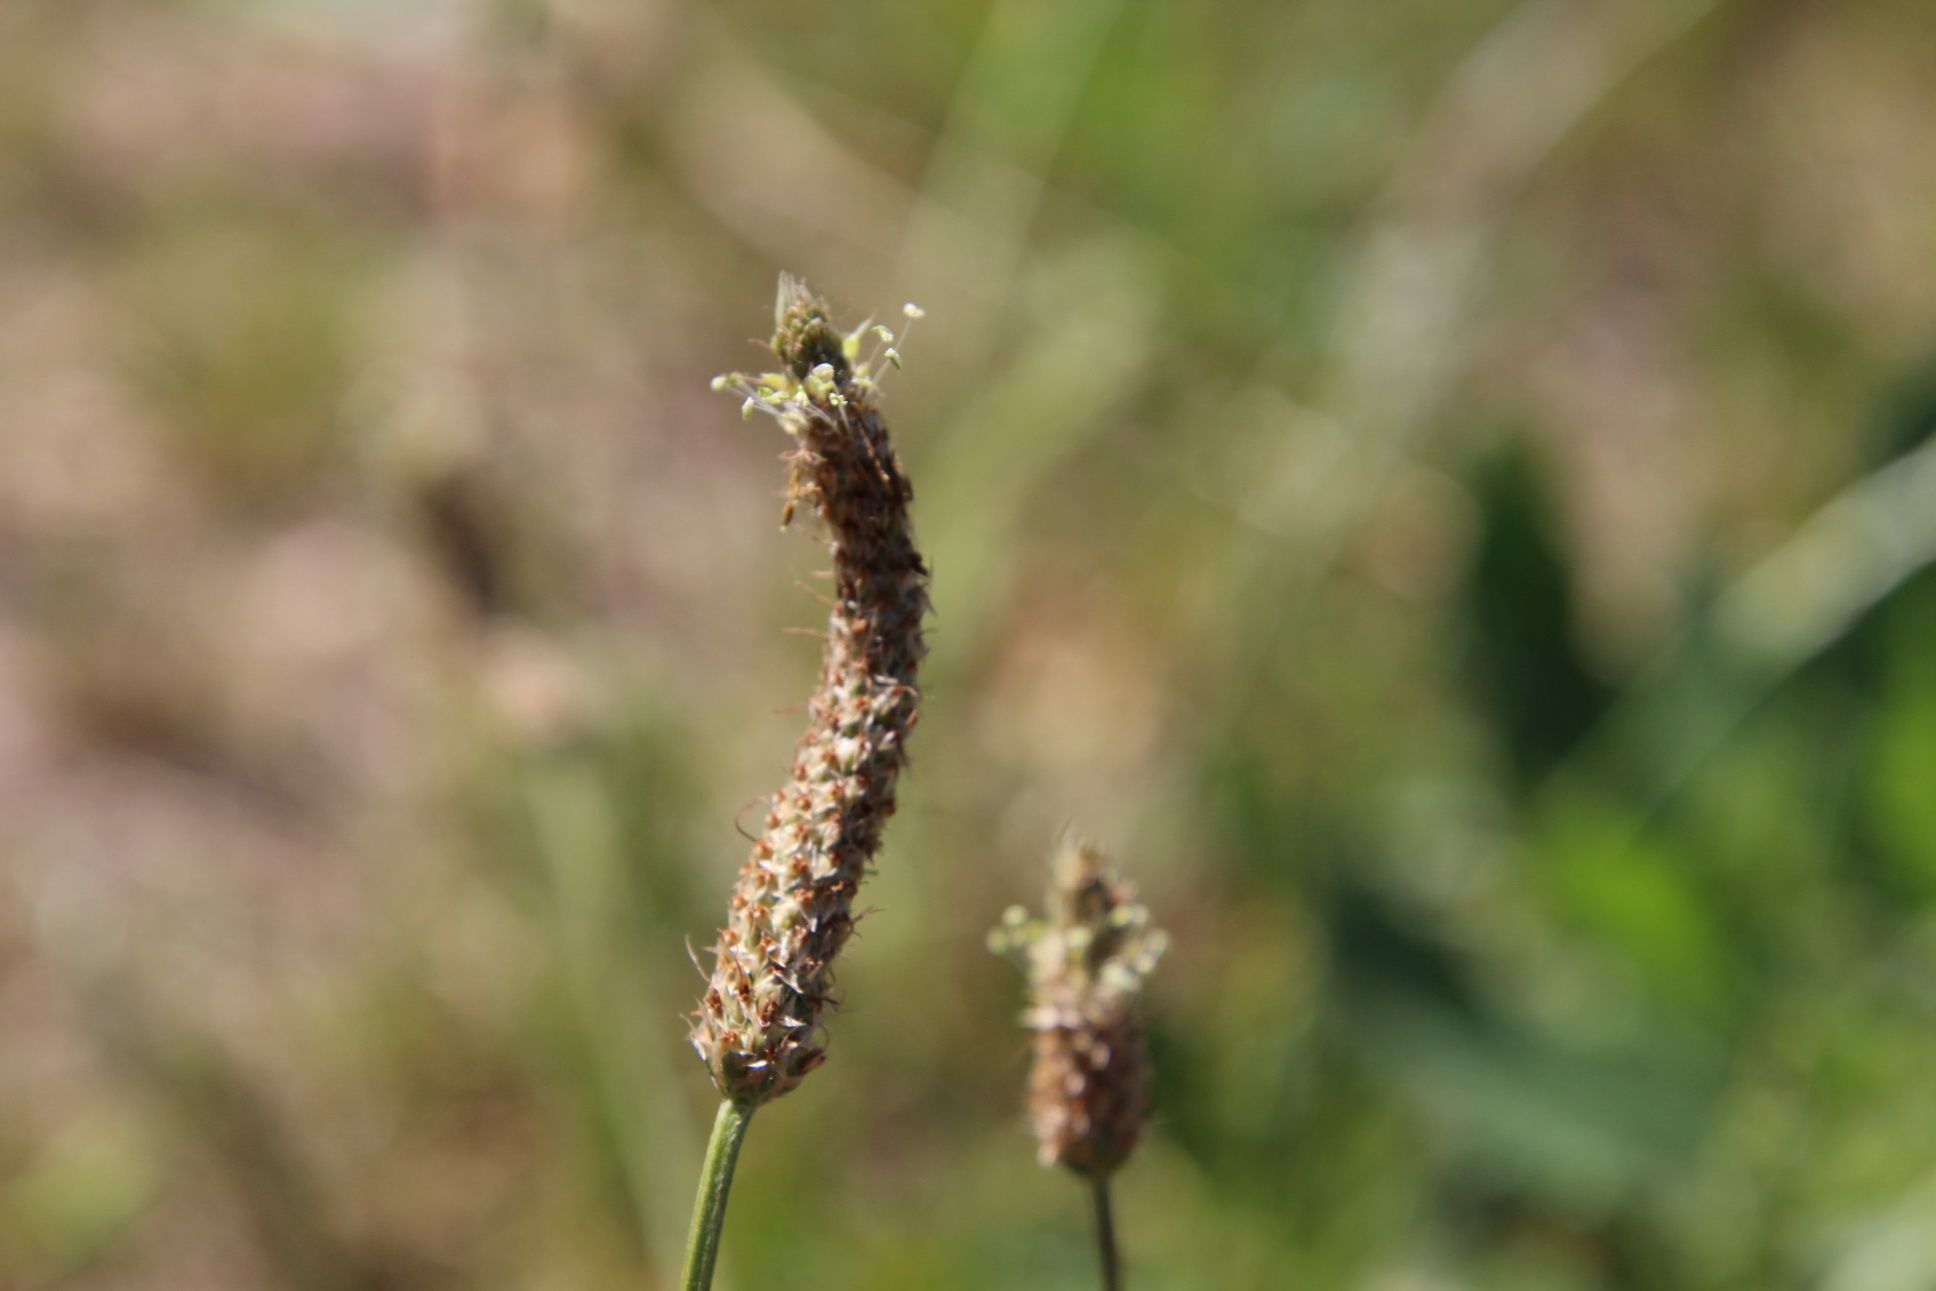buckhorn plantain: (622, 228, 944, 1167)
